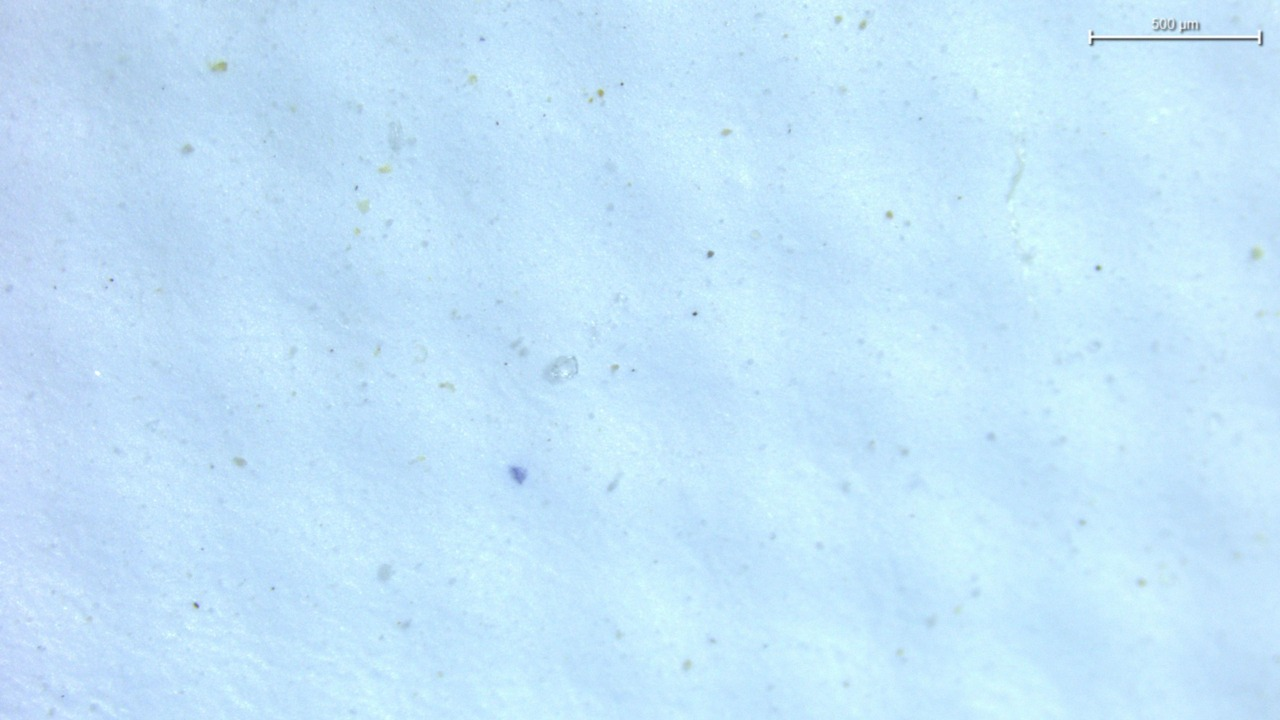microplastic_fragment: (543, 355, 578, 383)
